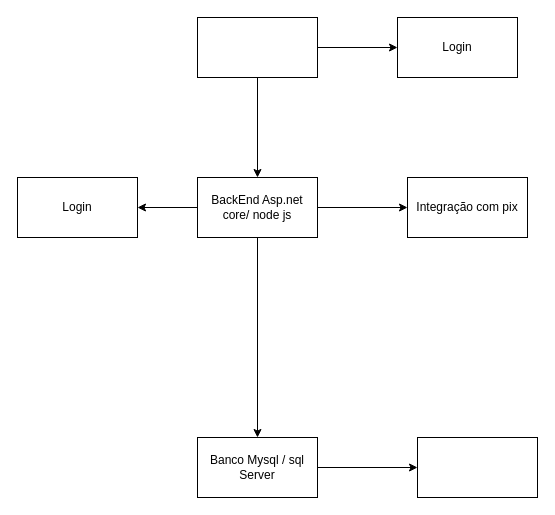
The diagram is 555 pixels wide and 515 high, and some of its shapes have lost their labels. Each missing label, with the box of its shape:
Criptografia: (416, 436, 538, 498)
Front React Js: (196, 16, 318, 78)
